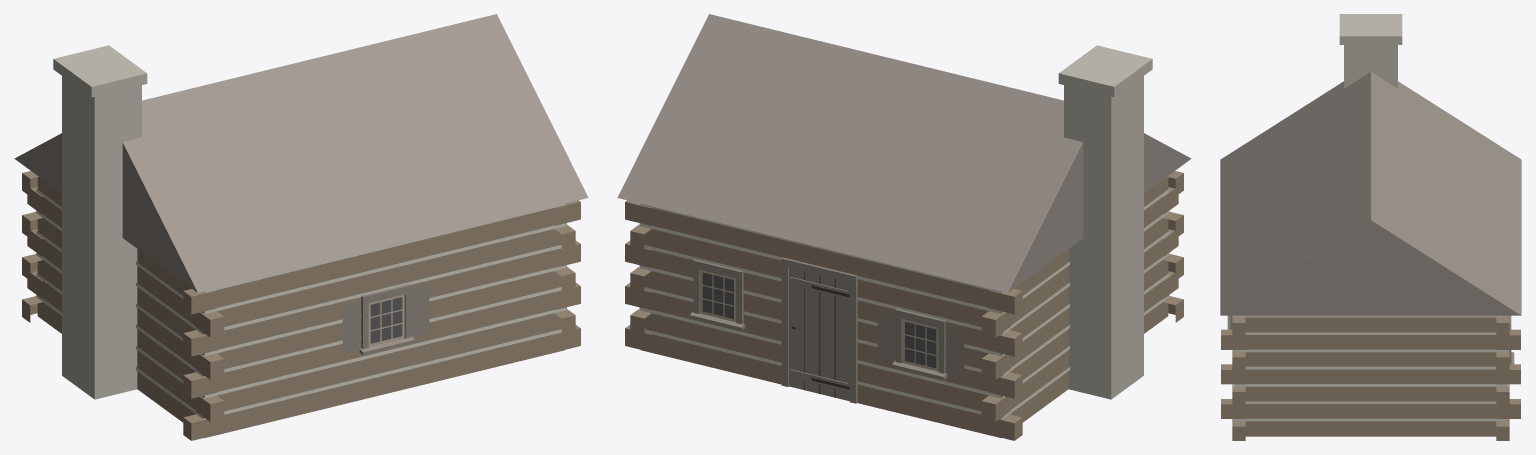
File: philo_carpenter_log_shop__log_1832.glb
The picture shows the model from 3 angles, left to right: view 1: azimuth 30°, elevation 25°; view 2: azimuth 150°, elevation 25°; view 3: azimuth 270°, elevation 25°; orthographic projection. The views are drawn at different scales.
Visible parts, largest first — view 1: philo_carpenter_log_shop__log_1832; view 2: philo_carpenter_log_shop__log_1832; view 3: philo_carpenter_log_shop__log_1832.
Part boxes in pixels (x1=…): philo_carpenter_log_shop__log_1832: x1=14, y1=14, x2=588, y2=440; philo_carpenter_log_shop__log_1832: x1=617, y1=14, x2=1191, y2=440; philo_carpenter_log_shop__log_1832: x1=1220, y1=14, x2=1521, y2=440.
Bounding box in the file's own units: 7.17 × 5.1 × 5.38.
